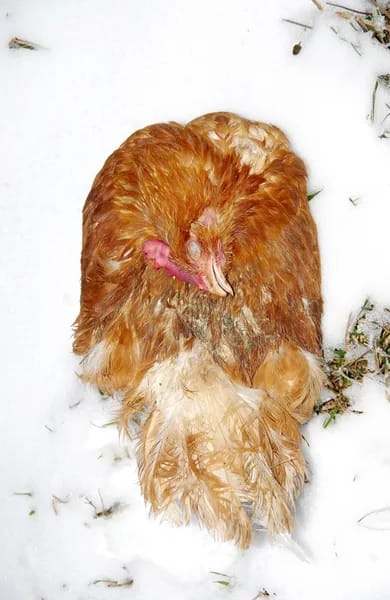Unhealthy: (66, 104, 330, 551)
